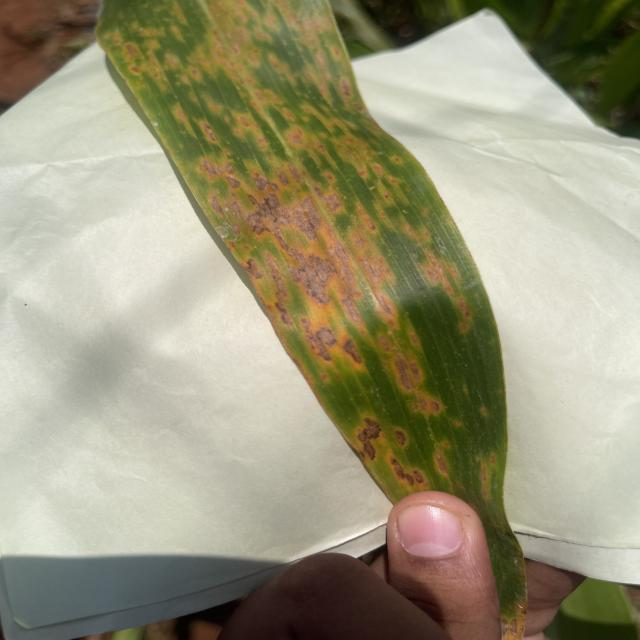millet_rust: (96, 0, 526, 640)
